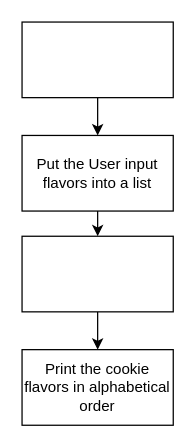
The diagram is 195 pixels wide and 447 high, and some of its shapes have lost their labels. The centre of each missing label's shape, as x and y in pixels:
"Establish Cookie Flavors with user input" goes at [97,59].
"Sort and organize the list of flavors into alphabetical order" goes at [97,273].
